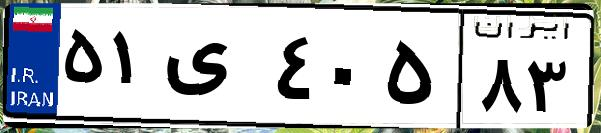0: (330, 28, 385, 110)
1: (110, 28, 158, 98)
3: (525, 38, 570, 115)
4: (270, 28, 330, 110)
5: (385, 28, 445, 110), (57, 26, 110, 100)
8: (475, 38, 525, 113)
ی: (158, 20, 270, 120)
